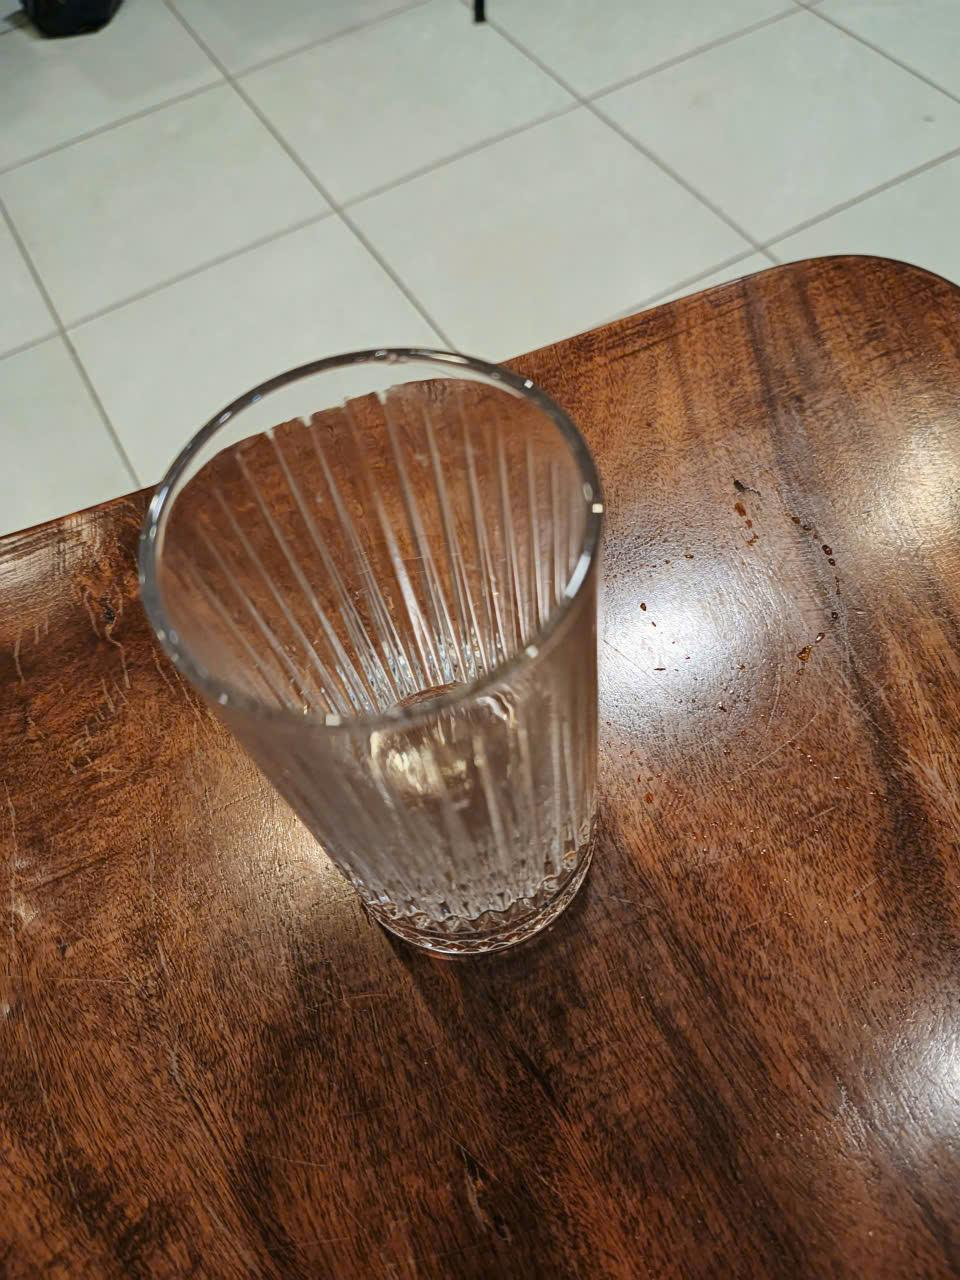Vo co: (140, 348, 602, 963)
